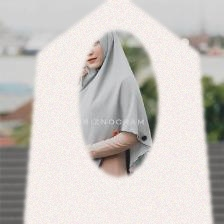Mukena: (19, 27, 217, 224)
